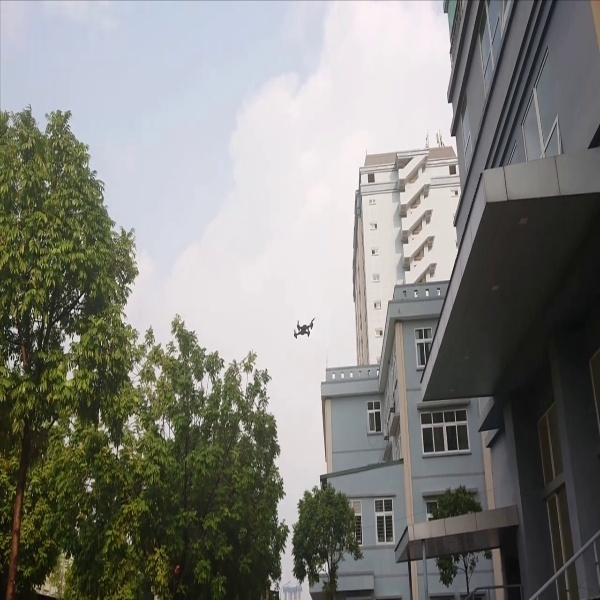drone: (280, 311, 323, 349)
